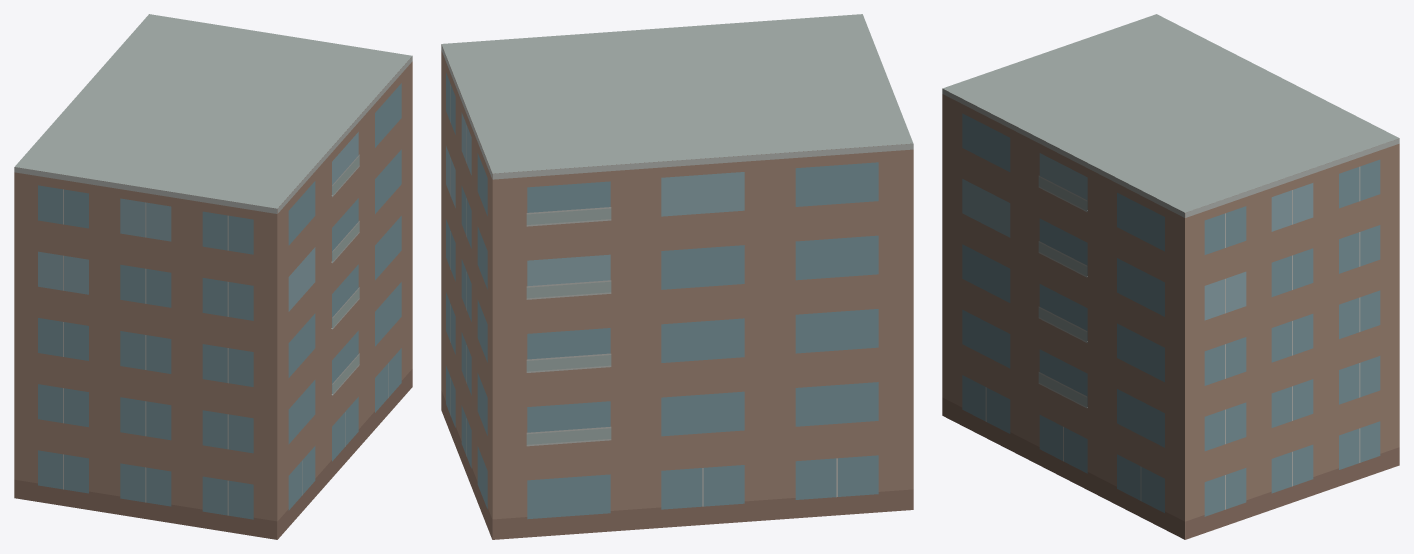
The model's file is survey-upis-32839553.glb.
3 renders of one model, left to right at view 1: azimuth 30°, elevation 25°; view 2: azimuth 150°, elevation 25°; view 3: azimuth 270°, elevation 25°, orthographic. The views are drawn at different scales.
Parts seen in each view (by area): view 1: survey-upis-32839553.tmp; view 2: survey-upis-32839553.tmp; view 3: survey-upis-32839553.tmp.
Boxes of the visible parts, x1=… form: survey-upis-32839553.tmp: x1=14, y1=14, x2=412, y2=539; survey-upis-32839553.tmp: x1=441, y1=14, x2=913, y2=539; survey-upis-32839553.tmp: x1=942, y1=14, x2=1399, y2=539.
Size of the model in its own units: 19.43 by 14.9 by 18.89.
